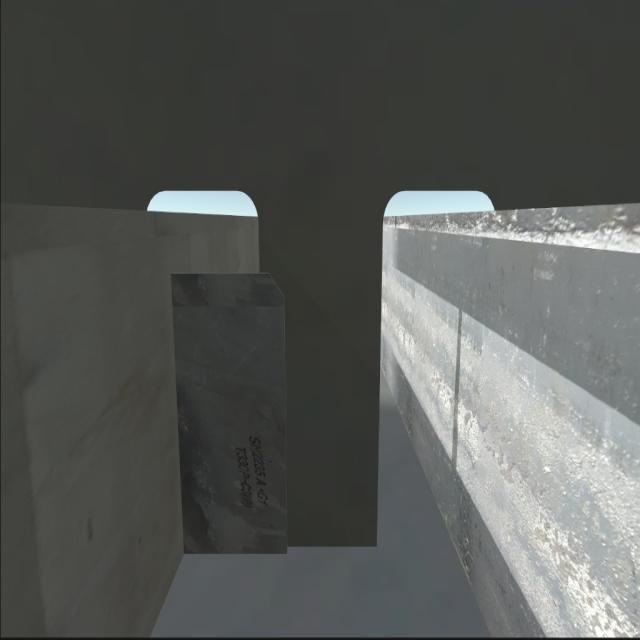fillet_yong_jeop_jang: (179, 540, 397, 564)
longi_yong_jeop_jang: (162, 263, 197, 564)
plate_CP03: (185, 272, 289, 548)
